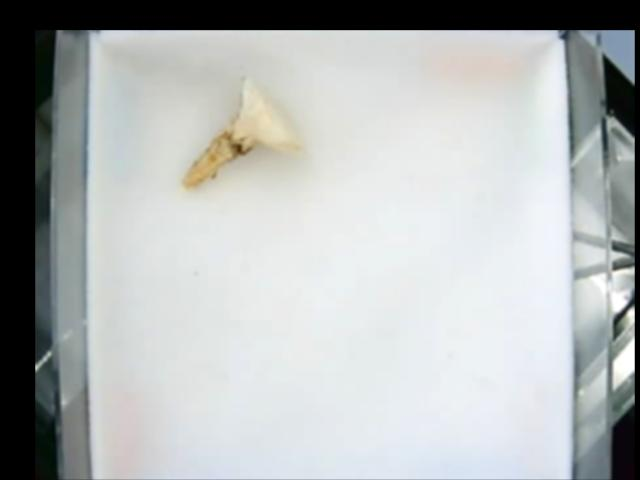Mooli: (180, 73, 305, 194)
